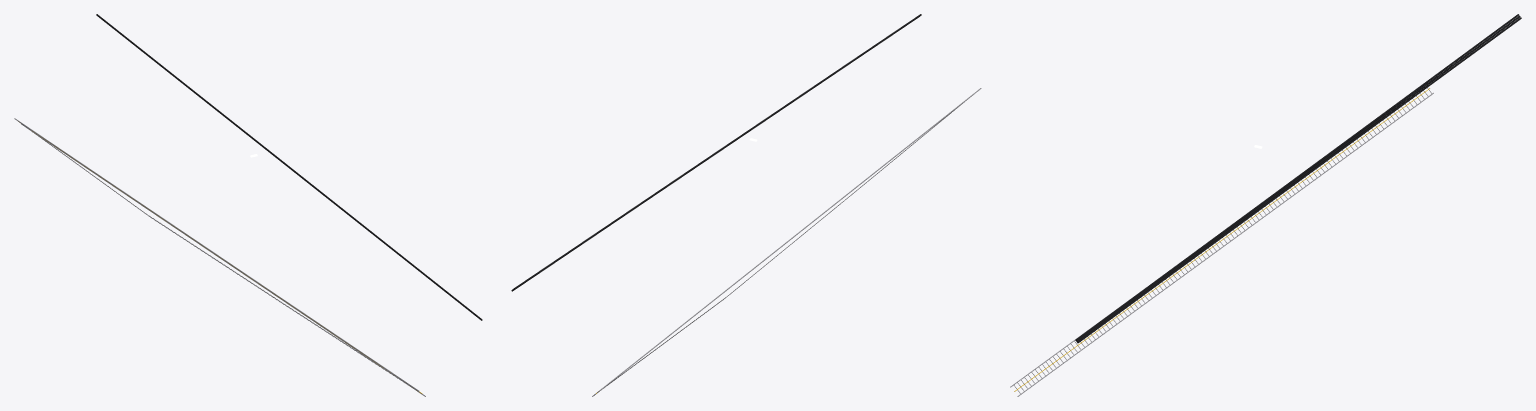
The model's file is ladder_3.glb.
The picture shows the model from 3 angles, left to right: view 1: azimuth 30°, elevation 25°; view 2: azimuth 150°, elevation 25°; view 3: azimuth 330°, elevation 25°; orthographic projection. The views are drawn at different scales.
Visible parts, largest first — view 1: ladder_3; view 2: ladder_3; view 3: ladder_3.
Part boxes in pixels (x1,y1,x2,y2): ladder_3: (14,14,482,396); ladder_3: (511,14,981,396); ladder_3: (1010,14,1521,396).
Bounding box in the file's own units: 4.12 × 4.74 × 32.41.
Materials: 4 (2 with a texture image).
